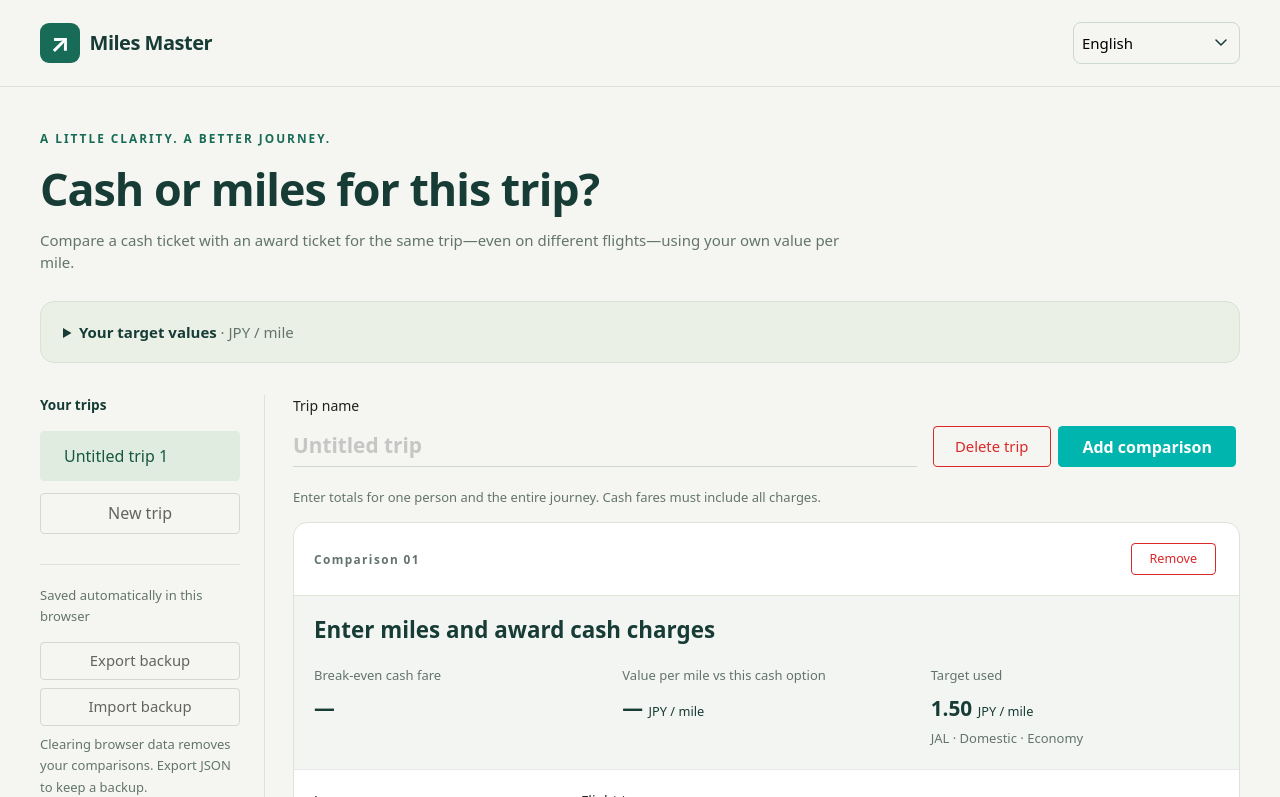
trip decision interface › does not round a small valuation advantage down to zero
Replace the text in the number field named "JAL · Domestic · Economy" with "0.99". click: x=640, y=332
box: [40,301,1240,363]
(page scrolled)
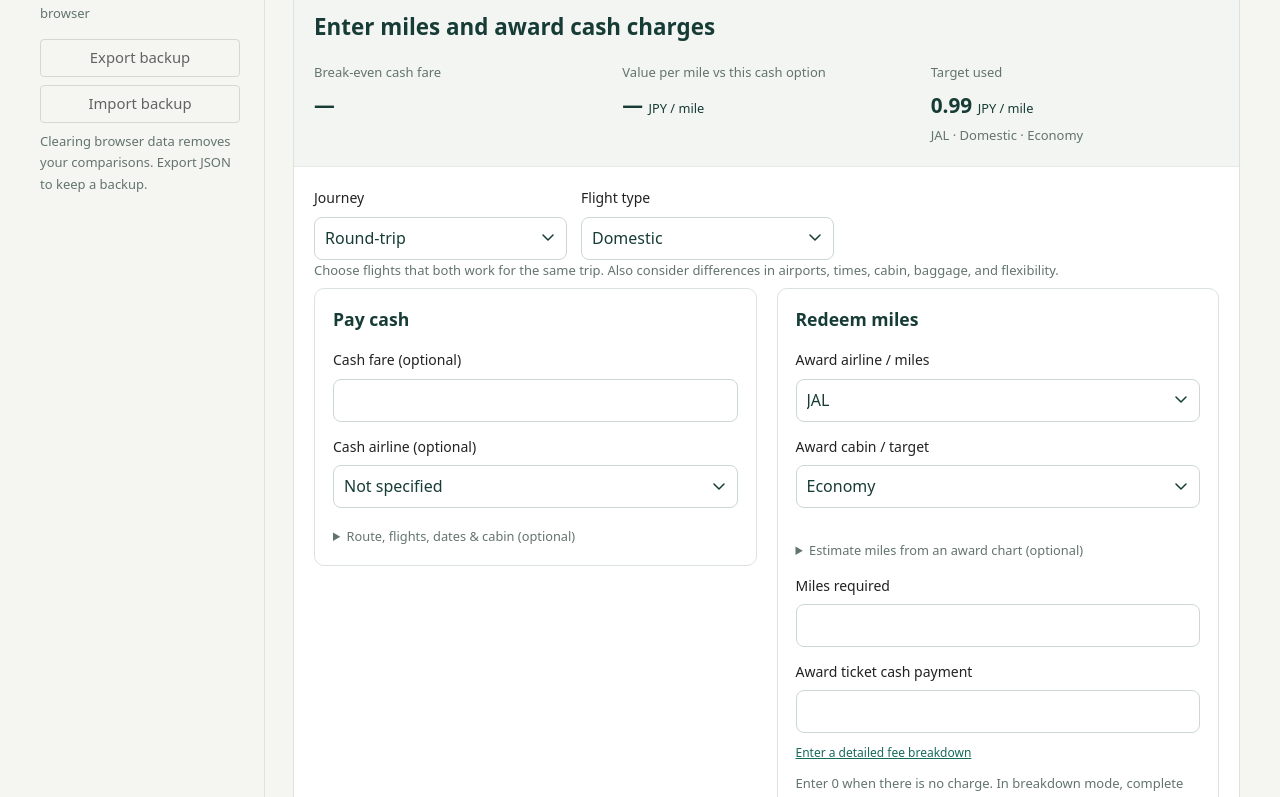
Type "1" into the number field labelled "Cash fare (optional)". click: x=535, y=400
box: [333,379,738,422]
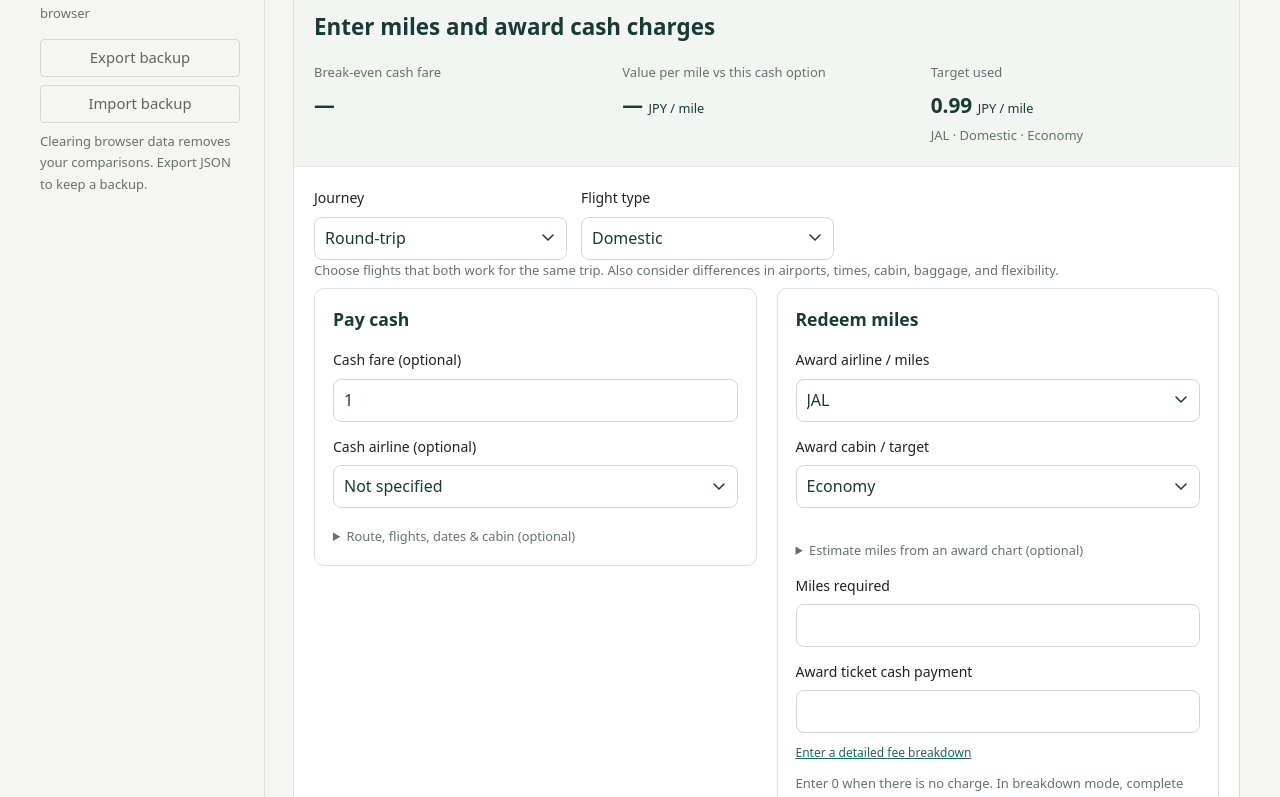
Type "1" into the number field labelled "Miles required". click: x=998, y=626
box: [796,604,1200,647]
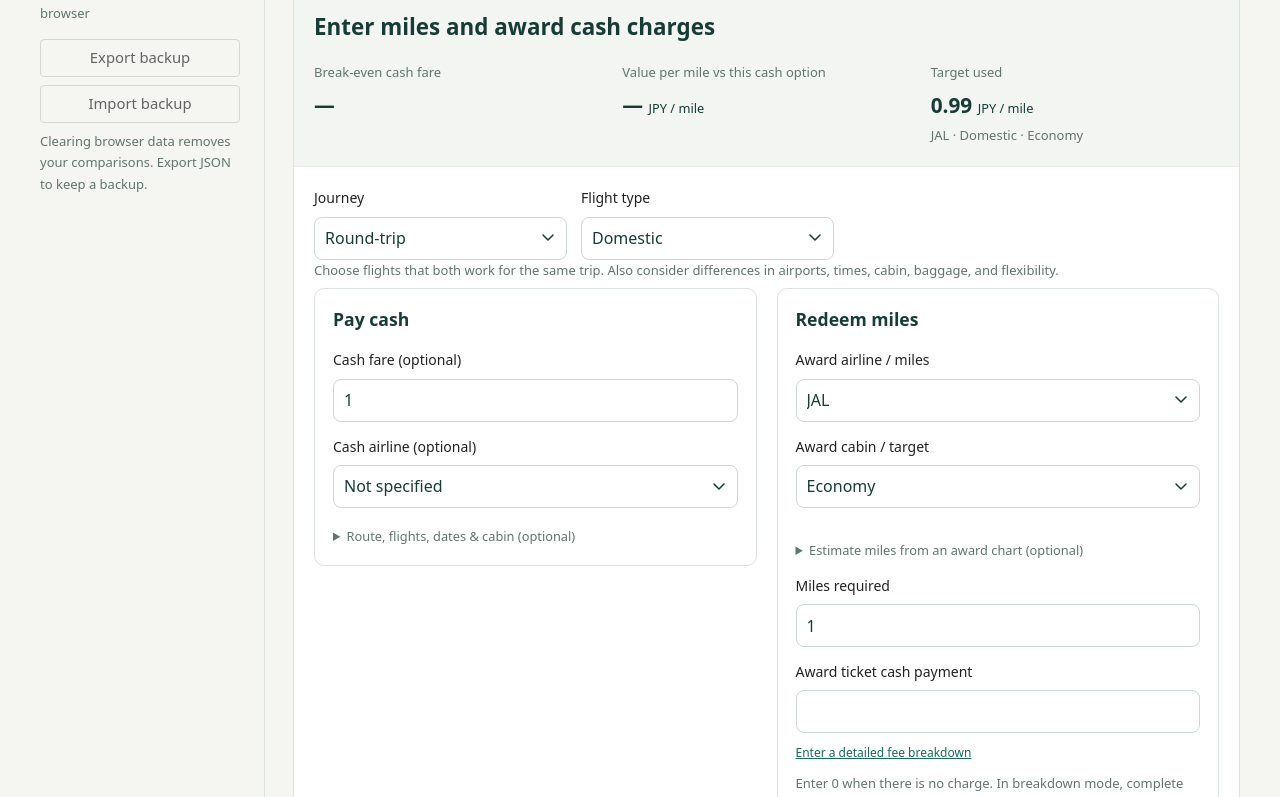
Type "0" into the number field labelled "Award ticket cash payment". click: x=998, y=712
box: [796,690,1200,734]
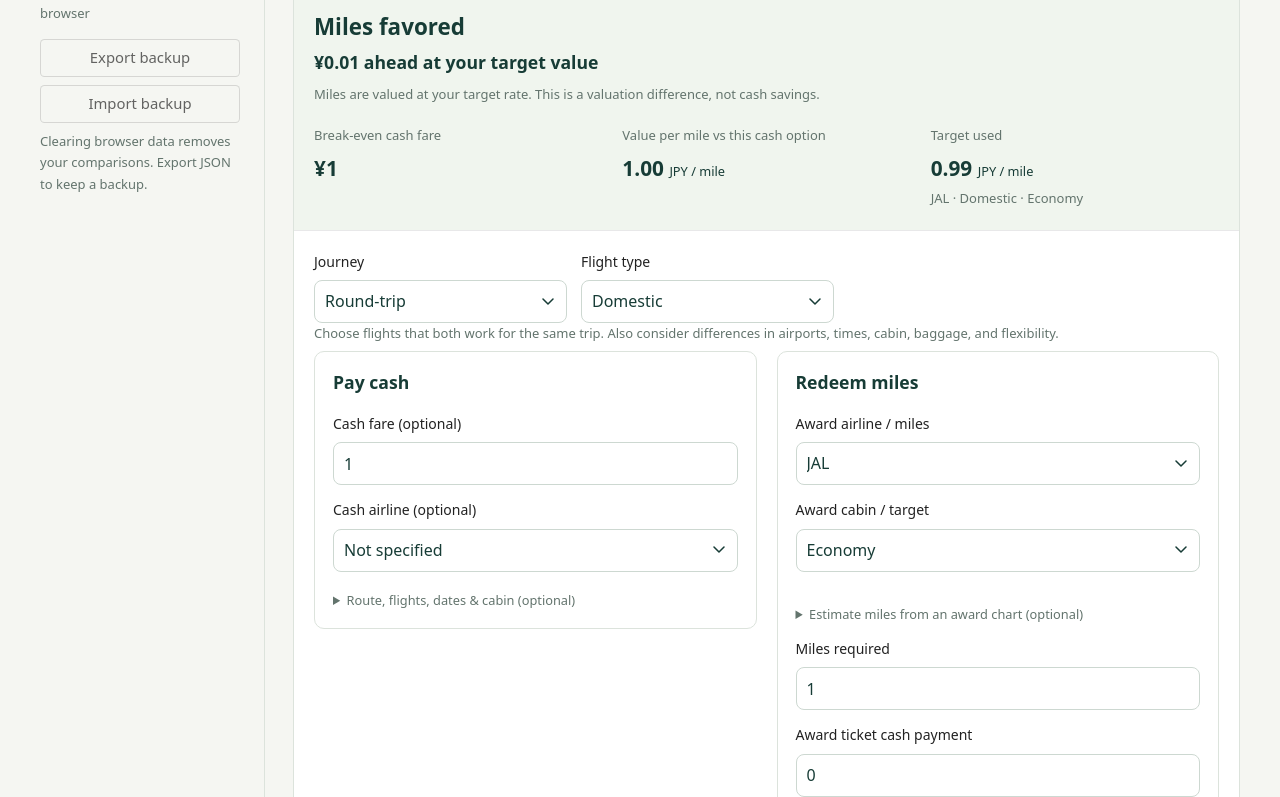
expect the text "¥0.01 ahead at your target value" is shown: met, box [314,50,598,74]
